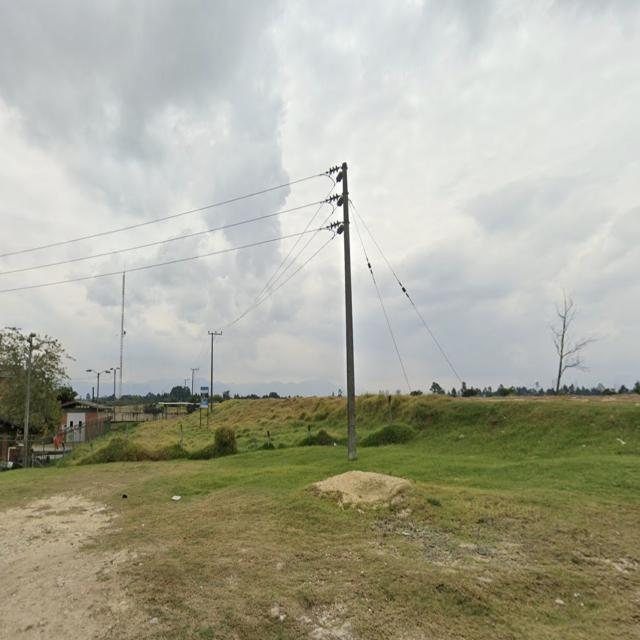Poste: (336, 162, 356, 460), (208, 331, 222, 410)
